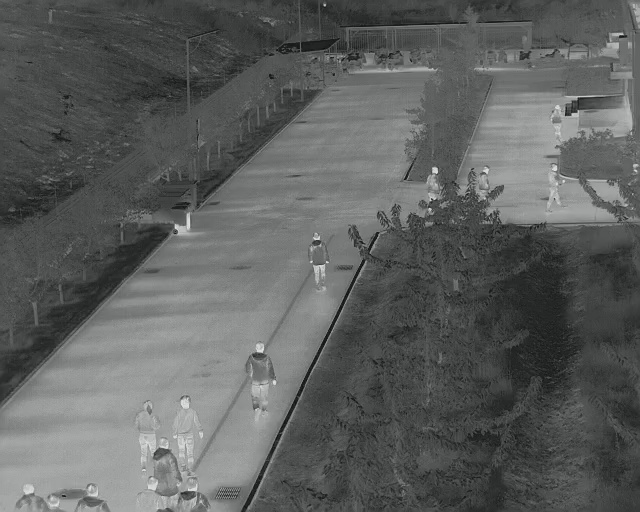person: (244, 339, 276, 418), (171, 395, 203, 474), (151, 437, 182, 508), (135, 399, 159, 474), (306, 230, 329, 291), (179, 476, 211, 512), (135, 475, 164, 512), (73, 483, 110, 512), (544, 163, 563, 212), (15, 483, 47, 512), (548, 103, 563, 141), (427, 165, 441, 202), (478, 165, 491, 200)
